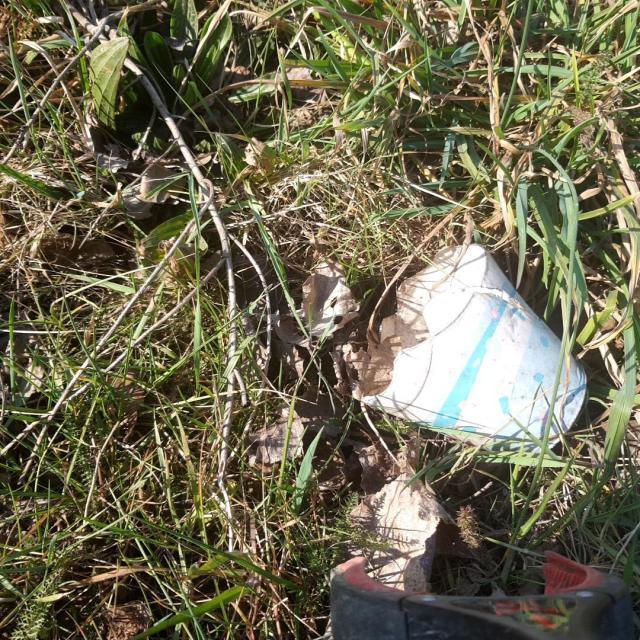Paper: (347, 243, 589, 456)
